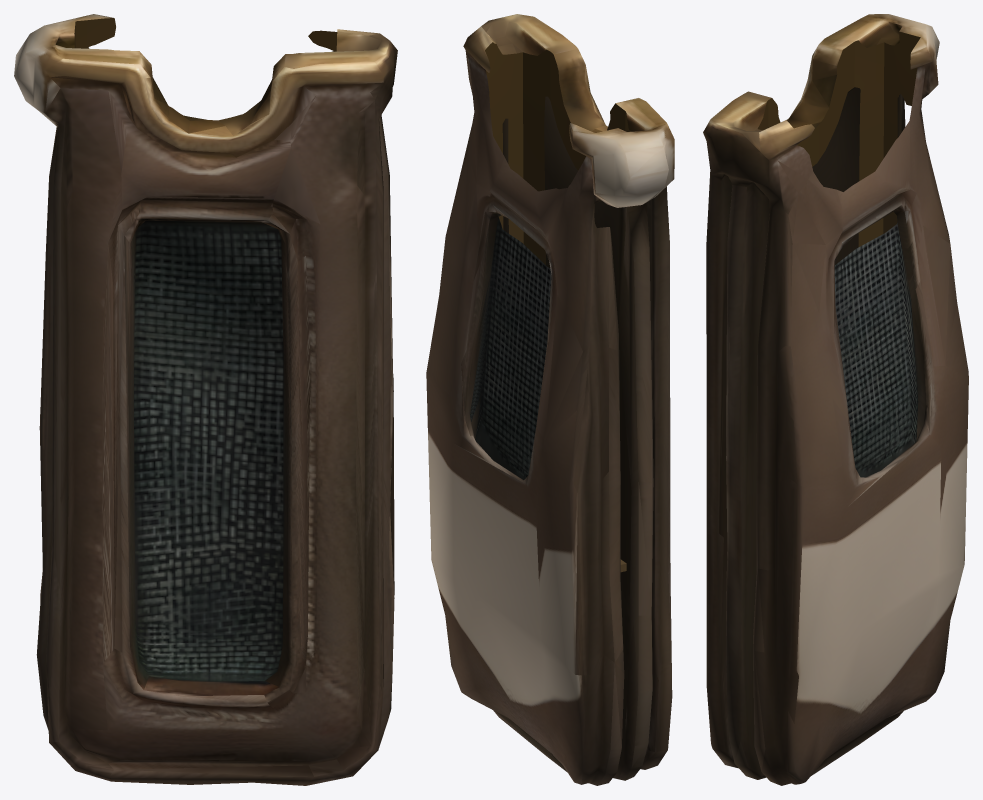
File: FlatSleeve-v2.glb
3 renders of one model, left to right at view 1: azimuth 30°, elevation 25°; view 2: azimuth 150°, elevation 25°; view 3: azimuth 270°, elevation 25°, orthographic. The views are drawn at different scales.
Parts seen in each view (by area): view 1: FlatSleeve; view 2: FlatSleeve; view 3: FlatSleeve.
Boxes of the visible parts, x1=… form: FlatSleeve: x1=14, y1=14, x2=397, y2=785; FlatSleeve: x1=426, y1=14, x2=674, y2=785; FlatSleeve: x1=703, y1=14, x2=968, y2=785.
Size of the model in its own units: 0.0412 by 0.0899 by 0.0324.
1 material, 1 textured.
